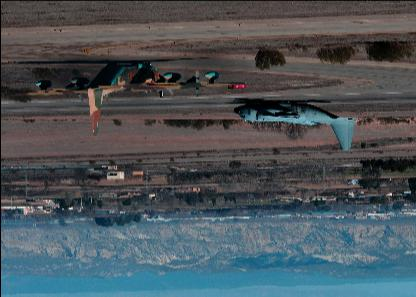Be200: (4, 60, 250, 136), (232, 101, 356, 151)
